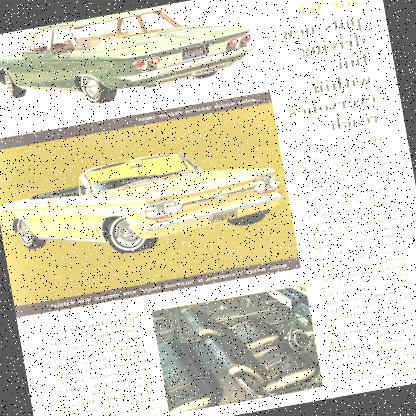Car: (0, 136, 284, 274), (0, 0, 262, 120)
